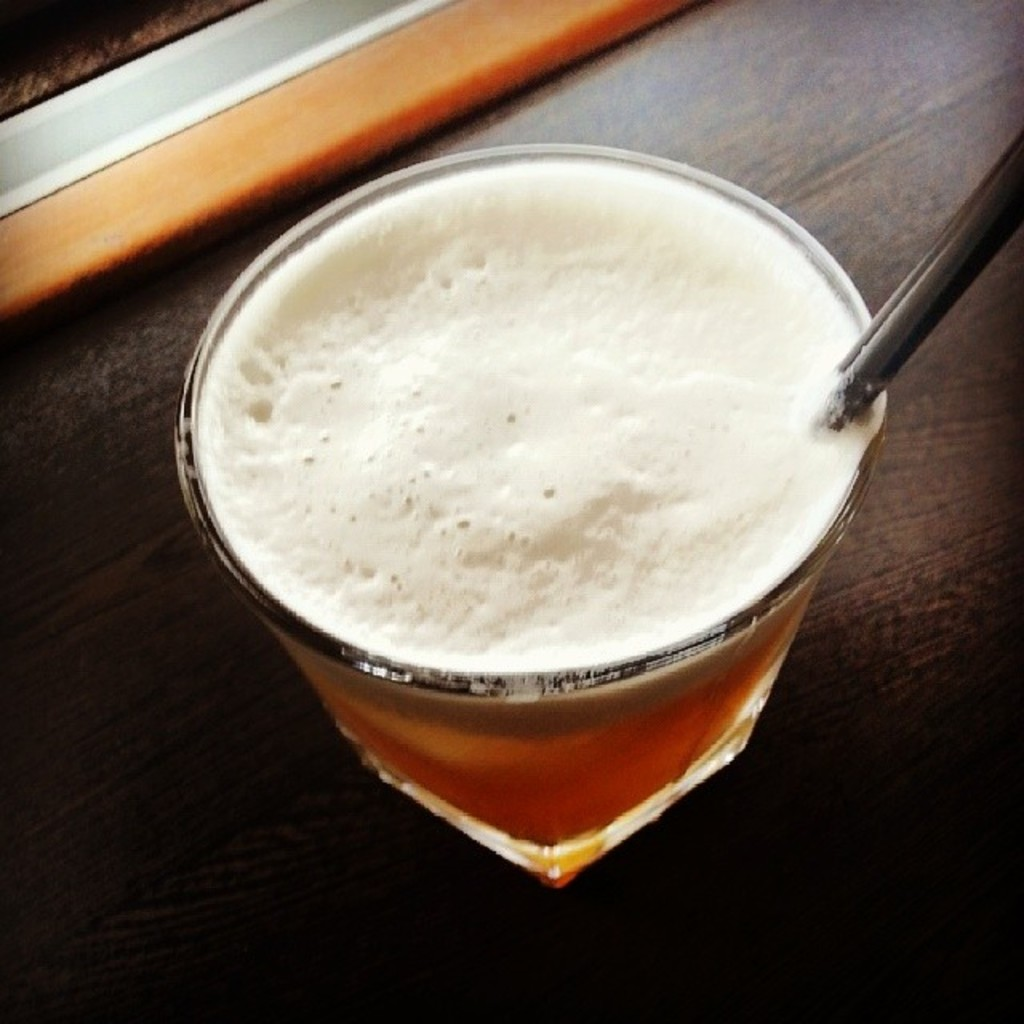Beer: (167, 135, 918, 915)
